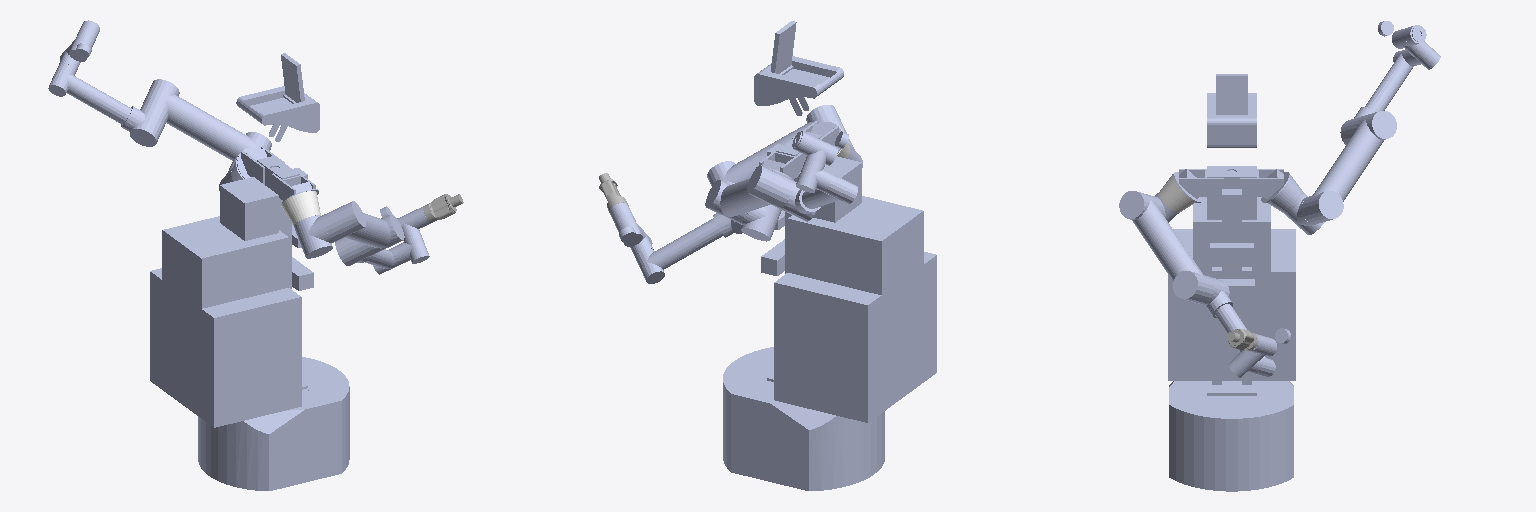
--- Render facts (derived) ---
3 views of the same robot in one strip: view 1: azimuth 30°, elevation 25°; view 2: azimuth 150°, elevation 25°; view 3: azimuth 270°, elevation 25° (orthographic).
Model Lowpoly_cholera_new_base_URDF_AVATRINA_ver13.0 with 24 links and 23 joints (14 revolute, 9 fixed), rooted at base_link, posed every joint at zero.
Links seen in each view (by area): view 1: base_link, left_upperarm_link, head_neck2_link, left_forearm_link, torso_link, right_upperarm_link, right_forearm_link, right_shoulder_link, right_base_link, right_wrist1_link, right_sucker_link; view 2: base_link, head_neck2_link, left_upperarm_link, right_forearm_link, torso_link, right_upperarm_link, left_forearm_link, left_shoulder_link, left_wrist1_link, left_wrist2_link; view 3: base_link, torso_link, left_upperarm_link, right_upperarm_link, head_neck2_link, left_forearm_link, right_forearm_link, right_base_link, left_base_link, left_wrist1_link, right_wrist1_link, right_sucker_link.
Link boxes in pixels (<box>): base_link: <box>150,177,349,490</box>; left_upperarm_link: <box>141,79,271,160</box>; head_neck2_link: <box>236,53,319,141</box>; left_forearm_link: <box>48,63,166,146</box>; torso_link: <box>237,146,318,290</box>; right_upperarm_link: <box>322,201,404,253</box>; right_forearm_link: <box>335,238,402,274</box>; right_shoulder_link: <box>294,215,335,258</box>; right_base_link: <box>281,191,320,225</box>; right_wrist1_link: <box>395,232,429,263</box>; right_sucker_link: <box>423,194,463,222</box>; base_link: <box>723,156,936,490</box>; head_neck2_link: <box>754,21,843,115</box>; left_upperarm_link: <box>705,165,793,222</box>; right_forearm_link: <box>636,213,742,283</box>; torso_link: <box>756,121,840,275</box>; right_upperarm_link: <box>707,105,846,185</box>; left_forearm_link: <box>781,174,857,221</box>; left_shoulder_link: <box>739,205,781,241</box>; left_wrist1_link: <box>796,159,832,192</box>; left_wrist2_link: <box>806,137,837,166</box>; base_link: <box>1168,166,1295,491</box>; torso_link: <box>1173,169,1289,309</box>; left_upperarm_link: <box>1302,111,1396,223</box>; right_upperarm_link: <box>1119,191,1214,303</box>; head_neck2_link: <box>1207,74,1256,147</box>; left_forearm_link: <box>1340,49,1414,144</box>; right_forearm_link: <box>1201,276,1275,376</box>; right_base_link: <box>1159,172,1195,212</box>; left_base_link: <box>1268,175,1303,213</box>; left_wrist1_link: <box>1407,41,1440,69</box>; right_wrist1_link: <box>1228,350,1261,377</box>; right_sucker_link: <box>1227,329,1257,350</box>.
Size in the robot's own frame: 1.5 by 1.28 by 1.73 metres.
Meshes: 24 distinct files referenced, 23 mesh visuals loaded (23 binary STL); not drawn: 1 (reference not matched to a file when rendering).

URDF robot description (Lowpoly_cholera_new_base_URDF_AVATRINA_ver13.0):
<?xml version="1.0" encoding="utf-8"?>
<!-- This URDF was automatically created by SolidWorks to URDF Exporter! Originally created by Stephen Brawner ([email redacted])
     Commit Version: 1.6.0-1-g15f4949  Build Version: 1.6.7594.29634
     For more information, please see http://wiki.ros.org/sw_urdf_exporter -->
<robot
  name="Lowpoly_cholera_new_base_URDF_AVATRINA_ver13.0">
  <link
    name="base_link">
    <inertial>
      <origin
        xyz="-0.130386130487535 2.42421627216771E-09 0.514289714827964"
        rpy="0 0 0" />
      <mass
        value="215.19814039698" />
      <inertia
        ixx="10.2643560828855"
        ixy="8.72995692893655E-07"
        ixz="-0.256200055876733"
        iyy="10.1406984957429"
        iyz="-8.91234563338853E-08"
        izz="7.56826571493856" />
    </inertial>
    <visual>
      <origin
        xyz="0 0 0"
        rpy="0 0 0" />
      <geometry>
        <mesh
          filename="Cholera/base_link.STL" />
      </geometry>
      <material
        name="">
        <color
          rgba="0.792156862745098 0.819607843137255 0.933333333333333 1" />
      </material>
    </visual>
    <collision>
      <origin
        xyz="0 0 0"
        rpy="0 0 0" />
      <geometry>
        <mesh
          filename="Cholera/base_link.STL" />
      </geometry>
    </collision>
  </link>
  <link
    name="torso_link">
    <inertial>
      <origin
        xyz="0.0380114900934237 1.36557432028894E-14 1.04413785242718"
        rpy="0 0 0" />
      <mass
        value="7.8578312658135" />
      <inertia
        ixx="0.0813622580761665"
        ixy="6.2036693056905E-18"
        ixz="-5.05951327433629E-05"
        iyy="0.0726665678399411"
        iyz="2.45525205227084E-18"
        izz="0.0162195379596107" />
    </inertial>
    <visual>
      <origin
        xyz="0 0 0"
        rpy="0 0 0" />
      <geometry>
        <mesh
          filename="Cholera/torso_link.STL" />
      </geometry>
      <material
        name="">
        <color
          rgba="0.792156862745098 0.819607843137255 0.933333333333333 1" />
      </material>
    </visual>
    <collision>
      <origin
        xyz="0 0 0"
        rpy="0 0 0" />
      <geometry>
        <mesh
          filename="Cholera/torso_link.STL" />
      </geometry>
    </collision>
  </link>
  <joint
    name="base_torso"
    type="fixed">
    <origin
      xyz="0 0 0.0400000000000001"
      rpy="0 0 0" />
    <parent
      link="base_link" />
    <child
      link="torso_link" />
    <axis
      xyz="0 0 0" />
  </joint>
  <link
    name="head_base_link">
    <inertial>
      <origin
        xyz="2.77555756156289E-16 -3.33066907387547E-16 0.00249999999999995"
        rpy="0 0 0" />
      <mass
        value="0.0737168146928194" />
      <inertia
        ixx="0.000266191924833222"
        ixy="-4.95251230708974E-19"
        ixz="2.16665583378074E-20"
        iyy="4.10395599934383E-05"
        iyz="7.51143400877818E-20"
        izz="0.000306924331432107" />
    </inertial>
    <visual>
      <origin
        xyz="0 0 0"
        rpy="0 0 0" />
      <geometry>
        <mesh
          filename="Cholera/head_base_link.STL" />
      </geometry>
      <material
        name="">
        <color
          rgba="0.792156862745098 0.819607843137255 0.933333333333333 1" />
      </material>
    </visual>
    <collision>
      <origin
        xyz="0 0 0"
        rpy="0 0 0" />
      <geometry>
        <mesh
          filename="Cholera/head_base_link.STL" />
      </geometry>
    </collision>
  </link>
  <joint
    name="torso_head_base"
    type="fixed">
    <origin
      xyz="0.0211080431151786 0 1.269055"
      rpy="0 0 0" />
    <parent
      link="torso_link" />
    <child
      link="head_base_link" />
    <axis
      xyz="0 0 0" />
  </joint>
  <link
    name="head_neck1_link">
    <inertial>
      <origin
        xyz="-0.017162 -3.7965E-11 0.055816"
        rpy="0 0 0" />
      <mass
        value="1.9942" />
      <inertia
        ixx="0.0063631"
        ixy="2.3331E-11"
        ixz="0.00033213"
        iyy="0.0061165"
        iyz="8.9971E-12"
        izz="0.0057481" />
    </inertial>
    <visual>
      <origin
        xyz="0 0 0"
        rpy="0 0 0" />
      <geometry>
        <mesh
          filename="Cholera/head_neck1_link.STL" />
      </geometry>
      <material
        name="">
        <color
          rgba="0.79216 0.81961 0.93333 1" />
      </material>
    </visual>
    <collision>
      <origin
        xyz="0 0 0"
        rpy="0 0 0" />
      <geometry>
        <mesh
          filename="Cholera/head_neck1_link.STL" />
      </geometry>
    </collision>
  </link>
  <joint
    name="head_base_neck1"
    type="revolute">
    <origin
      xyz="0 0 0.005"
      rpy="0 0 0" />
    <parent
      link="head_base_link" />
    <child
      link="head_neck1_link" />
    <axis
      xyz="0 0 -1" />
    <limit
      lower="-1.57"
      upper="1.57"
      effort="1"
      velocity="1" />
  </joint>
  <link
    name="head_neck2_link">
    <inertial>
      <origin
        xyz="0.11756 0.058091 5.3787E-07"
        rpy="0 0 0" />
      <mass
        value="3.6975" />
      <inertia
        ixx="0.03148"
        ixy="0.0032781"
        ixz="-1.0621E-07"
        iyy="0.0191"
        iyz="3.2192E-07"
        izz="0.022014" />
    </inertial>
    <visual>
      <origin
        xyz="0 0 0"
        rpy="0 0 0" />
      <geometry>
        <mesh
          filename="Cholera/head_neck2_link.STL" />
      </geometry>
      <material
        name="">
        <color
          rgba="0.79216 0.81961 0.93333 1" />
      </material>
    </visual>
    <collision>
      <origin
        xyz="0 0 0"
        rpy="0 0 0" />
      <geometry>
        <mesh
          filename="Cholera/head_neck2_link.STL" />
      </geometry>
    </collision>
  </link>
  <joint
    name="head_neck1_neck2"
    type="revolute">
    <origin
      xyz="-0.014108 0 0.1378"
      rpy="-1.5708 -1.5708 0" />
    <parent
      link="head_neck1_link" />
    <child
      link="head_neck2_link" />
    <axis
      xyz="0 0 1" />
    <limit
      lower="-1.57"
      upper="0.785"
      effort="1"
      velocity="1" />
  </joint>
  <link
    name="left_base_link">
    <inertial>
      <origin
        xyz="-1.37667655053519E-14 1.35447209004269E-14 0.0452500167858341"
        rpy="0 0 0" />
      <mass
        value="1.39397162412901" />
      <inertia
        ixx="0.00271550342627118"
        ixy="5.42101086242752E-20"
        ixz="-2.71050543121376E-19"
        iyy="0.00271550342627118"
        iyz="4.33680868994202E-19"
        izz="0.00319199166031868" />
    </inertial>
    <visual>
      <origin
        xyz="0 0 0"
        rpy="0 0 0" />
      <geometry>
        <mesh
          filename="Cholera/left_base_link.STL" />
      </geometry>
      <material
        name="">
        <color
          rgba="0.792156862745098 0.819607843137255 0.933333333333333 1" />
      </material>
    </visual>
    <collision>
      <origin
        xyz="0 0 0"
        rpy="0 0 0" />
      <geometry>
        <mesh
          filename="Cholera/left_base_link.STL" />
      </geometry>
    </collision>
  </link>
  <joint
    name="base_left_base"
    type="fixed">
    <origin
      xyz="0.010461531941383809 0.1765523419379713 1.2480977947660172"
      rpy="2.525718289099135 0.5145185869598203 3.7578603155950945" />
    <parent
      link="base_link" />
    <child
      link="left_base_link" />
    <axis
      xyz="0 0 0" />
  </joint>
  <link
    name="left_shoulder_link">
    <inertial>
      <origin
        xyz="1.14297332709512E-07 0.00937261893289865 0.0670267729066092"
        rpy="0 0 0" />
      <mass
        value="1.69867696887764" />
      <inertia
        ixx="0.00442864599419339"
        ixy="-4.1010435661553E-09"
        ixz="2.87401706491712E-10"
        iyy="0.00390531713147106"
        iyz="5.69611570013177E-05"
        izz="0.0035600426008386" />
    </inertial>
    <visual>
      <origin
        xyz="0 0 0"
        rpy="0 0 0" />
      <geometry>
        <mesh
          filename="Cholera/left_shoulder_link.STL" />
      </geometry>
      <material
        name="">
        <color
          rgba="0.792156862745098 0.819607843137255 0.933333333333333 1" />
      </material>
    </visual>
    <collision>
      <origin
        xyz="0 0 0"
        rpy="0 0 0" />
      <geometry>
        <mesh
          filename="Cholera/left_shoulder_link.STL" />
      </geometry>
    </collision>
  </link>
  <joint
    name="left_base_shoulder"
    type="revolute">
    <origin
      xyz="0 0 0.0990600000000003"
      rpy="0 0 1.5707963267949" />
    <parent
      link="left_base_link" />
    <child
      link="left_shoulder_link" />
    <axis
      xyz="0 0 1" />
    <limit
      lower="-6.28"
      upper="6.28"
      effort="150"
      velocity="3.33" />
  </joint>
  <link
    name="left_upperarm_link">
    <inertial>
      <origin
        xyz="1.35809636203632E-07 0.212500030104988 0.0653493983179887"
        rpy="0 0 0" />
      <mass
        value="6.31285273346305" />
      <inertia
        ixx="0.16990036349023"
        ixy="8.61179150300068E-09"
        ixz="3.01509572201569E-07"
        iyy="0.0127291856529223"
        iyz="-4.74484090256036E-10"
        izz="0.168139675767776" />
    </inertial>
    <visual>
      <origin
        xyz="0 0 0"
        rpy="0 0 0" />
      <geometry>
        <mesh
          filename="Cholera/left_upperarm_link.STL" />
      </geometry>
      <material
        name="">
        <color
          rgba="0.792156862745098 0.819607843137255 0.933333333333333 1" />
      </material>
    </visual>
    <collision>
      <origin
        xyz="0 0 0"
        rpy="0 0 0" />
      <geometry>
        <mesh
          filename="Cholera/left_upperarm_link.STL" />
      </geometry>
    </collision>
  </link>
  <joint
    name="left_shoulder_upperarm"
    type="revolute">
    <origin
      xyz="0 0.0744000000000002 0.0634490000000002"
      rpy="-1.5707963267949 -1.5707963267949 0" />
    <parent
      link="left_shoulder_link" />
    <child
      link="left_upperarm_link" />
    <axis
      xyz="0 0 1" />
    <limit
      lower="-6.28"
      upper="6.28"
      effort="150"
      velocity="3.33" />
  </joint>
  <link
    name="left_forearm_link">
    <inertial>
      <origin
        xyz="-7.44991930368144E-08 0.150537145068123 0.0641679811020519"
        rpy="0 0 0" />
      <mass
        value="3.18874318974123" />
      <inertia
        ixx="0.0756021338545847"
        ixy="-1.64883032522517E-08"
        ixz="6.14346233607233E-10"
        iyy="0.00433469541115748"
        iyz="-0.00195295037223337"
        izz="0.0749130409918155" />
    </inertial>
    <visual>
      <origin
        xyz="0 0 0"
        rpy="0 0 0" />
      <geometry>
        <mesh
          filename="Cholera/left_forearm_link.STL" />
      </geometry>
      <material
        name="">
        <color
          rgba="0.792156862745098 0.819607843137255 0.933333333333333 1" />
      </material>
    </visual>
    <collision>
      <origin
        xyz="0 0 0"
        rpy="0 0 0" />
      <geometry>
        <mesh
          filename="Cholera/left_forearm_link.STL" />
      </geometry>
    </collision>
  </link>
  <joint
    name="left_upperarm_forearm"
    type="revolute">
    <origin
      xyz="0 0.425 0"
      rpy="3.14159265358979 0 3.14159265358979" />
    <parent
      link="left_upperarm_link" />
    <child
      link="left_forearm_link" />
    <axis
      xyz="0 0 -1" />
    <limit
      lower="-6.28"
      upper="6.28"
      effort="28"
      velocity="3.33" />
  </joint>
  <link
    name="left_wrist1_link">
    <inertial>
      <origin
        xyz="-6.79008282933324E-08 -0.00349488600556491 0.0580237753953088"
        rpy="0 0 0" />
      <mass
        value="0.63356209986502" />
      <inertia
        ixx="0.000995073092670702"
        ixy="1.98275427299539E-10"
        ixz="-3.8640843084655E-10"
        iyy="0.000769001925832068"
        iyz="3.28288005460469E-05"
        izz="0.000691326411605404" />
    </inertial>
    <visual>
      <origin
        xyz="0 0 0"
        rpy="0 0 0" />
      <geometry>
        <mesh
          filename="Cholera/left_wrist1_link.STL" />
      </geometry>
      <material
        name="">
        <color
          rgba="0.792156862745098 0.819607843137255 0.933333333333333 1" />
      </material>
    </visual>
    <collision>
      <origin
        xyz="0 0 0"
        rpy="0 0 0" />
      <geometry>
        <mesh
          filename="Cholera/left_wrist1_link.STL" />
      </geometry>
    </collision>
  </link>
  <joint
    name="left_forearm_wrist1"
    type="revolute">
    <origin
      xyz="0 0.39225 0.0139500000000001"
      rpy="-3.14159265358979 0 1.5707963267949" />
    <parent
      link="left_forearm_link" />
    <child
      link="left_wrist1_link" />
    <axis
      xyz="0 0 1" />
    <limit
      lower="-6.28"
      upper="6.28"
      effort="28"
      velocity="3.33" />
  </joint>
  <link
    name="left_wrist2_link">
    <inertial>
      <origin
        xyz="1.12157343412633E-08 -0.00401808934817849 0.0461487186768793"
        rpy="0 0 0" />
      <mass
        value="0.547369084917851" />
      <inertia
        ixx="0.000728213840607297"
        ixy="-4.19945240555516E-11"
        ixz="8.88611992284427E-11"
        iyy="0.000503983489914328"
        iyz="1.59481903299775E-05"
        izz="0.000628884098642882" />
    </inertial>
    <visual>
      <origin
        xyz="0 0 0"
        rpy="0 0 0" />
      <geometry>
        <mesh
          filename="Cholera/left_wrist2_link.STL" />
      </geometry>
      <material
        name="">
        <color
          rgba="0.792156862745098 0.819607843137255 0.933333333333333 1" />
      </material>
    </visual>
    <collision>
      <origin
        xyz="0 0 0"
        rpy="0 0 0" />
      <geometry>
        <mesh
          filename="Cholera/left_wrist2_link.STL" />
      </geometry>
    </collision>
  </link>
  <joint
    name="left_wrist1_wrist2"
    type="revolute">
    <origin
      xyz="0 0.0462999999999994 0.0728499999999996"
      rpy="1.5707963267949 0 3.14159265358979" />
    <parent
      link="left_wrist1_link" />
    <child
      link="left_wrist2_link" />
    <axis
      xyz="0 0 1" />
    <limit
      lower="-6.28"
      upper="6.28"
      effort="28"
      velocity="3.33" />
  </joint>
  <link
    name="left_EE_link">
    <inertial>
      <origin
        xyz="1.37667655053519E-14 0 0.0254445195252795"
        rpy="0 0 0" />
      <mass
        value="0.224027022443648" />
      <inertia
        ixx="0.00012658229794006"
        ixy="-2.37169225231204E-20"
        ixz="2.03287907341032E-20"
        iyy="0.00012658229794006"
        iyz="4.06575814682064E-20"
        izz="0.000155143101918596" />
    </inertial>
    <visual>
      <origin
        xyz="0 0 0"
        rpy="0 0 0" />
      <geometry>
        <mesh
          filename="Cholera/left_EE_link.STL" />
      </geometry>
      <material
        name="">
        <color
          rgba="0.792156862745098 0.819607843137255 0.933333333333333 1" />
      </material>
    </visual>
    <collision>
      <origin
        xyz="0 0 0"
        rpy="0 0 0" />
      <geometry>
        <mesh
          filename="Cholera/left_EE_link.STL" />
      </geometry>
    </collision>
  </link>
  <joint
    name="left_wrist2_EE"
    type="revolute">
    <origin
      xyz="0 0.0463000000000005 0.0534000000000002"
      rpy="1.5707963267949 0 3.14159265358979" />
    <parent
      link="left_wrist2_link" />
    <child
      link="left_EE_link" />
    <axis
      xyz="0 0 1" />
    <limit
      lower="-6.28"
      upper="6.28"
      effort="28"
      velocity="3.33" />
  </joint>
  <link
    name="left_tool_link">
    <inertial>
      <origin
        xyz="-0.000499999999985734 -1.35447209004269E-14 -1.11022302462516E-16"
        rpy="0 0 0" />
      <mass
        value="2.49999999999995E-05" />
      <inertia
        ixx="1.04166666666664E-10"
        ixy="2.26182198744969E-26"
        ixz="1.51865190585907E-25"
        iyy="5.41666666666635E-11"
        iyz="-8.86957336507055E-25"
        izz="5.41666666666667E-11" />
    </inertial>
    <visual>
      <origin
        xyz="0 0 0"
        rpy="0 0 0" />
      <geometry>
        <mesh
          filename="Cholera/left_tool_link.STL" />
      </geometry>
      <material
        name="">
        <color
          rgba="0.792156862745098 0.819607843137255 0.933333333333333 1" />
      </material>
    </visual>
    <collision>
      <origin
        xyz="0 0 0"
        rpy="0 0 0" />
      <geometry>
        <mesh
          filename="Cholera/left_tool_link.STL" />
      </geometry>
    </collision>
  </link>
  <joint
    name="left_EE_tool"
    type="fixed">
    <origin
      xyz="0 0 0.0532999999999995"
      rpy="1.5707963267949 -1.5707963267949 0" />
    <parent
      link="left_EE_link" />
    <child
      link="left_tool_link" />
    <axis
      xyz="0 0 0" />
  </joint>
  <link
    name="left_wrist2_camera_link">
    <inertial>
      <origin
        xyz="-8.34072810818043E-11 0.0577106733608101 -0.00741056156456921"
        rpy="0 0 0" />
      <mass
        value="0.104007488371374" />
      <inertia
        ixx="3.62127199796485E-05"
        ixy="2.75417065727108E-14"
        ixz="-5.14030583777334E-14"
        iyy="2.73887262006016E-05"
        iyz="9.69787629165981E-07"
        izz="5.46610717399857E-05" />
    </inertial>
    <visual>
      <origin
        xyz="0 0 0"
        rpy="0 0 0" />
      <geometry>
        <mesh
          filename="Cholera/left_wrist2_camera_link.STL" />
      </geometry>
      <material
        name="">
        <color
          rgba="0.792156862745098 0.819607843137255 0.933333333333333 1" />
      </material>
    </visual>
    <collision>
      <origin
        xyz="0 0 0"
        rpy="0 0 0" />
      <geometry>
        <mesh
          filename="Cholera/left_wrist2_camera_link.STL" />
      </geometry>
    </collision>
  </link>
  <joint
    name="left_wrist2_camera"
    type="fixed">
    <origin
      xyz="0 -0.0583299999999995 0.0533999999999947"
      rpy="1.5707963267949 0 3.14159265358979" />
    <parent
      link="left_wrist2_link" />
    <child
      link="left_wrist2_camera_link" />
    <axis
      xyz="0 0 0" />
  </joint>
  <link
    name="right_base_link">
    <inertial>
      <origin
        xyz="0 0 0"
        rpy="0 0 0" />
      <mass
        value="0" />
      <inertia
        ixx="0"
        ixy="0"
        ixz="0"
        iyy="0"
        iyz="0"
        izz="0" />
    </inertial>
    <visual>
      <origin
        xyz="0 0 0"
        rpy="0 0 0" />
      <geometry>
        <mesh
          filename="Cholera/right_base_link.STL" />
      </geometry>
      <material
        name="">
        <color
          rgba="1 1 1 1" />
      </material>
    </visual>
    <collision>
      <origin
        xyz="0 0 0"
        rpy="0 0 0" />
      <geometry>
        <mesh
          filename="Cholera/right_base_link.STL" />
      </geometry>
    </collision>
  </link>
  <joint
    name="base_right_base"
    type="fixed">
    <origin
      xyz="0.010512006603566913 -0.1799677644898198 1.2496690507099943"
      rpy="3.7546411255457173 0.5141174252613643 2.5256958342104996" />
    <parent
      link="base_link" />
    <child
      link="right_base_link" />
    <axis
      xyz="0 0 0" />
  </joint>
  <link
    name="right_shoulder_link">
    <inertial>
      <origin
        xyz="1.51306617724722E-05 0.00937262932033189 0.0670267917081215"
        rpy="0 0 0" />
      <mass
        value="1.69867711391749" />
      <inertia
        ixx="0.00442865037959082"
        ixy="1.79699203132783E-08"
        ixz="-1.97665668981916E-07"
        iyy="0.00390531752644237"
        iyz="5.695954757768E-05"
        izz="0.00356004026239241" />
    </inertial>
    <visual>
      <origin
        xyz="0 0 0"
        rpy="0 0 0" />
      <geometry>
        <mesh
          filename="Cholera/right_shoulder_link.STL" />
      </geometry>
      <material
        name="">
        <color
          rgba="0.792156862745098 0.819607843137255 0.933333333333333 1" />
      </material>
    </visual>
    <collision>
      <origin
        xyz="0 0 0"
        rpy="0 0 0" />
      <geometry>
        <mesh
          filename="Cholera/right_shoulder_link.STL" />
      </geometry>
    </collision>
  </link>
  <joint
    name="right_base_shoulder"
    type="revolute">
    <origin
      xyz="0 0 0.0990600000000001"
      rpy="0 -0.000227291627930162 1.5707963267949" />
    <parent
      link="right_base_link" />
    <child
      link="right_shoulder_link" />
    <axis
      xyz="0 0 1" />
    <limit
      lower="-6.28"
      upper="6.28"
      effort="150"
      velocity="3.33" />
  </joint>
  <link
    name="right_upperarm_link">
    <inertial>
      <origin
        xyz="-1.35809655743557E-07 0.212499969895026 0.065349398317975"
        rpy="0 0 0" />
      <mass
        value="6.31285273346304" />
      <inertia
        ixx="0.16990036349023"
        ixy="8.61179151861319E-09"
        ixz="-3.015095721981E-07"
        iyy="0.0127291856529223"
        iyz="4.74484099797015E-10"
        izz="0.168139675767776" />
    </inertial>
    <visual>
      <origin
        xyz="0 0 0"
        rpy="0 0 0" />
      <geometry>
        <mesh
          filename="Cholera/right_upperarm_link.STL" />
      </geometry>
      <material
        name="">
        <color
          rgba="0.792156862745098 0.819607843137255 0.933333333333333 1" />
      </material>
    </visual>
    <collision>
      <origin
        xyz="0 0 0"
        rpy="0 0 0" />
      <geometry>
        <mesh
          filename="Cholera/right_upperarm_link.STL" />
      </geometry>
    </collision>
  </link>
  <joint
    name="right_shoulder_upperarm"
    type="revolute">
    <origin
      xyz="1.44214263774201E-05 0.0743999999999996 0.0634489983610651"
      rpy="-1.5707963267927 -1.57056903516778 0" />
    <parent
      link="right_shoulder_link" />
    <child
      link="right_upperarm_link" />
    <axis
      xyz="0 0 1" />
    <limit
      lower="-6.28"
      upper="6.28"
      effort="150"
      velocity="28" />
  </joint>
  <link
    name="right_forearm_link">
    <inertial>
      <origin
        xyz="-6.88233805501426E-08 0.150537145210714 0.0641679259977747"
        rpy="0 0 0" />
      <mass
        value="3.18874323055421" />
      <inertia
        ixx="0.0756018393308706"
        ixy="-9.23950092020904E-08"
        ixz="-2.65068297675836E-08"
        iyy="0.00433460742981963"
        iyz="-0.0019529557313547"
        izz="0.0749126070237331" />
    </inertial>
    <visual>
      <origin
        xyz="0 0 0"
        rpy="0 0 0" />
      <geometry>
        <mesh
          filename="Cholera/right_forearm_link.STL" />
      </geometry>
      <material
        name="">
        <color
          rgba="0.792156862745098 0.819607843137255 0.933333333333333 1" />
      </material>
    </visual>
    <collision>
      <origin
        xyz="0 0 0"
        rpy="0 0 0" />
      <geometry>
        <mesh
          filename="Cholera/right_forearm_link.STL" />
      </geometry>
    </collision>
  </link>
  <joint
    name="right_upperarm_forearm"
    type="revolute">
    <origin
      xyz="0 0.425 0"
      rpy="3.14159265358979 0 -3.14159265358979" />
    <parent
      link="right_upperarm_link" />
    <child
      link="right_forearm_link" />
    <axis
      xyz="0 0 -1" />
    <limit
      lower="-6.28"
      upper="6.28"
      effort="28"
      velocity="3.33" />
  </joint>
  <link
    name="right_wrist1_link">
    <inertial>
      <origin
        xyz="6.90914477852189E-08 -0.00349490925938423 0.0580237760681647"
        rpy="0 0 0" />
      <mass
        value="0.633562086796879" />
      <inertia
        ixx="0.000995072942241236"
        ixy="-1.48590563573033E-10"
        ixz="4.3637358157001E-10"
        iyy="0.000769001946471979"
        iyz="3.28284789390375E-05"
        izz="0.000691326353425231" />
    </inertial>
    <visual>
      <origin
        xyz="0 0 0"
        rpy="0 0 0" />
      <geometry>
        <mesh
          filename="Cholera/right_wrist1_link.STL" />
      </geometry>
      <material
        name="">
        <color
          rgba="0.792156862745098 0.819607843137255 0.933333333333333 1" />
      </material>
    </visual>
    <collision>
      <origin
        xyz="0 0 0"
        rpy="0 0 0" />
      <geometry>
        <mesh
          filename="Cholera/right_wrist1_link.STL" />
      </geometry>
    </collision>
  </link>
  <joint
    name="right_forearm_wrist1"
    type="revolute">
    <origin
      xyz="0 0.39225 0.0139499999999998"
      rpy="3.14159265358979 0 1.57079632679491" />
    <parent
      link="right_forearm_link" />
    <child
      link="right_wrist1_link" />
    <axis
      xyz="0 0 1" />
    <limit
      lower="-6.28"
      upper="6.28"
      effort="28"
      velocity="3.33" />
  </joint>
  <link
    name="right_wrist2_link">
    <inertial>
      <origin
        xyz="-8.35234259533024E-09 -0.00401808937073189 0.0461487186816244"
        rpy="0 0 0" />
      <mass
        value="0.547369083405585" />
      <inertia
        ixx="0.000728213843703613"
        ixy="-2.77103583541617E-12"
        ixz="-4.36601658689376E-11"
        iyy="0.000503983489439202"
        iyz="1.59481907904133E-05"
        izz="0.00062888409306512" />
    </inertial>
    <visual>
      <origin
        xyz="0 0 0"
        rpy="0 0 0" />
      <geometry>
        <mesh
          filename="Cholera/right_wrist2_link.STL" />
      </geometry>
      <material
        name="">
        <color
          rgba="0.792156862745098 0.819607843137255 0.933333333333333 1" />
      </material>
    </visual>
    <collision>
      <origin
        xyz="0 0 0"
        rpy="0 0 0" />
      <geometry>
        <mesh
          filename="Cholera/right_wrist2_link.STL" />
      </geometry>
    </collision>
  </link>
  <joint
    name="right_wrist1_wrist2"
    type="revolute">
    <origin
      xyz="0 0.0463000000000003 0.0728500000000001"
      rpy="1.5707963267949 0 3.14159265358979" />
    <parent
      link="right_wrist1_link" />
    <child
      link="right_wrist2_link" />
    <axis
      xyz="0 0 1" />
    <limit
      lower="-6.28"
      upper="6.28"
      effort="28"
      velocity="3.33" />
  </joint>
  <link
    name="right_EE_link">
    <inertial>
      <origin
        xyz="1.11022302462516E-16 1.93178806284777E-14 0.0254445195252656"
        rpy="0 0 0" />
      <mass
        value="0.224027022443648" />
      <inertia
        ixx="0.00012658229794006"
        ixy="-1.01643953670516E-20"
        ixz="-1.01643953670516E-20"
        iyy="0.00012658229794006"
        iyz="-3.04931861011548E-20"
        izz="0.000155143101918596" />
    </inertial>
    <visual>
      <origin
        xyz="0 0 0"
        rpy="0 0 0" />
      <geometry>
        <mesh
          filename="Cholera/right_EE_link.STL" />
      </geometry>
      <material
        name="">
        <color
          rgba="0.792156862745098 0.819607843137255 0.933333333333333 1" />
      </material>
    </visual>
    <collision>
      <origin
        xyz="0 0 0"
        rpy="0 0 0" />
      <geometry>
        <mesh
          filename="Cholera/right_EE_link.STL" />
      </geometry>
    </collision>
  </link>
  <joint
    name="right_wrist2_EE"
    type="revolute">
    <origin
      xyz="0 0.0462999999999996 0.0534"
      rpy="1.5707963267949 0.000227291627932216 3.14159265358979" />
    <parent
      link="right_wrist2_link" />
    <child
      link="right_EE_link" />
    <axis
      xyz="0 0 1" />
    <limit
      lower="-6.28"
      upper="6.28"
      effort="28"
      velocity="3.33" />
  </joint>
  <link
    name="right_tool_link">
    <inertial>
      <origin
        xyz="-0.000500000000000167 2.22044604925031E-16 -1.95399252334028E-14"
        rpy="0 0 0" />
      <mass
        value="2.49999999999996E-05" />
      <inertia
        ixx="1.04166666666667E-10"
        ixy="-8.07793566946316E-26"
        ixz="1.27631383577518E-25"
        iyy="5.41666666666658E-11"
        iyz="1.37486465094263E-24"
        izz="5.4166666666667E-11" />
    </inertial>
    <visual>
      <origin
        xyz="0 0 0"
        rpy="0 0 0" />
      <geometry>
        <mesh
          filename="Cholera/right_tool_link.STL" />
      </geometry>
      <material
        name="">
        <color
          rgba="0.792156862745098 0.819607843137255 0.933333333333333 1" />
      </material>
    </visual>
    <collision>
      <origin
        xyz="0 0 0"
        rpy="0 0 0" />
      <geometry>
        <mesh
          filename="Cholera/right_tool_link.STL" />
      </geometry>
    </collision>
  </link>
  <joint
    name="right_EE_tool"
    type="fixed">
    <origin
      xyz="0 0 0.0533000000000001"
      rpy="1.57056903516696 -1.5707963267949 0" />
    <parent
      link="right_EE_link" />
    <child
      link="right_tool_link" />
    <axis
      xyz="0 0 0" />
  </joint>
  <link
    name="right_sucker_link">
    <inertial>
      <origin
        xyz="7.40765482450945E-05 5.32275407660876E-06 0.0586623958389181"
        rpy="0 0 0" />
      <mass
        value="0.455937790675365" />
      <inertia
        ixx="0.000765771744246054"
        ixy="2.91583140806992E-09"
        ixz="2.40901442618506E-07"
        iyy="0.00066416868364583"
        iyz="2.81352525356189E-09"
        izz="0.000291802729043668" />
    </inertial>
    <visual>
      <origin
        xyz="0 0 0"
        rpy="0 0 0" />
      <geometry>
        <mesh
          filename="Cholera/right_sucker_link.STL" />
      </geometry>
      <material
        name="">
        <color
          rgba="0.752941176470588 0.752941176470588 0.752941176470588 1" />
      </material>
    </visual>
    <collision>
      <origin
        xyz="0 0 0"
        rpy="0 0 0" />
      <geometry>
        <mesh
          filename="Cholera/right_sucker_link.STL" />
      </geometry>
    </collision>
  </link>
  <joint
    name="right_tool_sucker"
    type="fixed">
    <origin
      xyz="0 0 0"
      rpy="1.5707963267949 0 1.5707963267949" />
    <parent
      link="right_tool_link" />
    <child
      link="right_sucker_link" />
    <axis
      xyz="0 0 0" />
  </joint>
  <link
    name="right_wrist2_camera_link">
    <inertial>
      <origin
        xyz="8.34188274012604E-11 0.057710673360825 0.00741056156458231"
        rpy="0 0 0" />
      <mass
        value="0.104007488371374" />
      <inertia
        ixx="3.62127199796483E-05"
        ixy="-2.75416964083154E-14"
        ixz="-5.14030448252063E-14"
        iyy="2.73887262006014E-05"
        iyz="-9.69787629165987E-07"
        izz="5.46610717399854E-05" />
    </inertial>
    <visual>
      <origin
        xyz="0 0 0"
        rpy="0 0 0" />
      <geometry>
        <mesh
          filename="Cholera/right_wrist2_camera_link.STL" />
      </geometry>
      <material
        name="">
        <color
          rgba="0.792156862745098 0.819607843137255 0.933333333333333 1" />
      </material>
    </visual>
    <collision>
      <origin
        xyz="0 0 0"
        rpy="0 0 0" />
      <geometry>
        <mesh
          filename="Cholera/right_wrist2_camera_link.STL" />
      </geometry>
    </collision>
  </link>
  <joint
    name="right_wrist2_camera"
    type="fixed">
    <origin
      xyz="0 -0.0583300000000004 0.0533999999999997"
      rpy="1.5707963267949 0 0" />
    <parent
      link="right_wrist2_link" />
    <child
      link="right_wrist2_camera_link" />
    <axis
      xyz="0 0 0" />
  </joint>
  <klampt>
    <!-- left gripper Robotiq140 -->
    <mount link = 'left_tool_link' file = "robotiq_140.rob" transform = "0 0 1 0 1 0 -1 0 0  0 0 0" prefix="left_gripper"/>
    <noselfcollision group1="left_gripper:base_link left_gripper:right_inner_knuckle left_gripper:right_outer_knuckle left_gripper:right_outer_finger left_gripper:right_inner_finger  left_gripper:right_inner_finger_pad left_gripper:left_inner_knuckle left_gripper:left_outer_knuckle  left_gripper:left_outer_finger  left_gripper:left_inner_finger  left_gripper:left_inner_finger_pad" group2="left_EE_link left_tool_link left_wrist2_link left_wrist1_link"/>
    <!-- right gripper Robotiq ePick -->
    <noselfcollision group1="right_sucker_link" group2="right_EE_link right_tool_link right_wrist2_link right_wrist1_link"/>
    <noselfcollision group1="torso_link" group2="left_base_link right_base_link"/>
    <noselfcollision group1="left_base_link" group2="right_base_link right_shoulder_link right_upperarm_link"/>
    <noselfcollision group1="left_base_link" group2="left_upperarm_link"/>
    <noselfcollision group1="left_shoulder_link" group2="right_shoulder_link"/>
    <noselfcollision group1="left_wrist2_link" group2="left_forearm_link left_tool_link"/>
    <noselfcollision pairs="left_EE_link left_wrist1_link"/>
    <noselfcollision group1="right_base_link" group2="left_shoulder_link left_upperarm_link"/>
    <noselfcollision group1="right_base_link" group2="right_upperarm_link"/>
    <noselfcollision group1="right_wrist2_link" group2="right_forearm_link left_tool_link"/>
    <noselfcollision pairs="right_EE_link right_wrist1_link"/>
    <noselfcollision pairs="left_tool_link right_tool_link"/>
    <noselfcollision group1="left_tool_link right_tool_link" group2="base_link left_base_link left_shoulder_link left_upperarm_link left_forearm_link left_wrist1_link left_wrist2_link left_EE_link right_base_link right_shoulder_link right_upperarm_link right_forearm_link right_wrist1_link right_wrist2_link right_EE_link"/>

    <noselfcollision group1="base_link" group2="head_base_link head_neck1_link head_neck2_link"/>
    <noselfcollision group1="base_link" group2="left_shoulder_link right_shoulder_link"/>
    <noselfcollision group1="head_base_link" group2="head_neck2_link"/>
    <!-- <noselfcollision group1="head_neck1_link" group2="head_face_link"/> -->
    <sensors>
        <CameraSensor name="realsense_overhead_5_l515" link="left_wrist2_link"
        Tsensor="0.9997864319857709 -0.0201111306309159 -0.0047573986492837565 0.0048949440577391815 0.006795582674075577 0.9999649291744145 -0.020078096021126472 -0.9997746558504402 0.006892574214354562 0.0037220311923585234 -0.056645973112591744 0.14671806292615752"
        xres="1280" yres="720" xfov="1.19901" yfov="0.7347727" zmin="0.01"
        zmax ="1.5" zresolution="0.01" zvarianceLinear="0.00001"/>

        <CameraSensor name="realsense_overhead_4_l515" link="right_wrist2_link"
        Tsensor="0.9998931445526114 -0.007518962117395853 -0.01253653402531087 0.012615369442428227 0.01053073775651491 0.9998649688913672 -0.007385927871409198 -0.9999162808810449 0.010624466974755175 0.0015085317684312054 -0.05205054693141718 0.14777557494542187"
        xres="1280" yres="720" xfov="1.19901" yfov="0.7347727"
        zmin="0.01" zmax ="1.5" zresolution="0.01" zvarianceLinear="0.00001"/>

        <CameraSensor name="realsense_slam_l515" link="base_link"
        Tsensor="0.008535120819753494 -0.001049916270607354 0.9999630240105964 -0.9997338576643883 0.021424624312872398 0.008555659678403327 -0.021432814842493042 -0.9997699151049089 -0.0008667750864108648 0.09357422565716068 -0.0012717915732546566 1.1642385353448976"
        xres="1280" yres="720" xfov="1.196155" yfov="0.7315540"
        zmin="0.01" zmax ="1.5" zresolution="0.01" zvarianceLinear="0.00001"/>

        <CameraSensor name="zed_slam_left" link="base_link"
        Tsensor="0.006447890696940961 -0.059488606071236794 0.9982081598811248
                -0.9988406134813741 -0.048005552835298726 0.0035910662941980864
                0.04770590703164829 -0.9970740056007268 -0.05972917034087444
                0.07982846612525446 0.06223457108480517 0.9930913648574041"
        xres="672" yres="376" xfov="1.20428" yfov="0.942478"
        zmin="0.1" zmax ="1.5" zresolution="0.01" zvarianceLinear="0.00001"/>

        <CameraSensor name="zed_slam_right" link="base_link"
        Tsensor="0.006447890696940961 -0.059488606071236794 0.9982081598811248
            -0.9988406134813741 -0.048005552835298726 0.0035910662941980864
            0.04770590703164829 -0.9970740056007268 -0.05972917034087444
            0.08060221300888737 -0.057626302532959715 0.998816073701202"
        xres="672" yres="376" xfov="1.20428" yfov="0.942478"
        zmin="0.1" zmax ="1.5" zresolution="0.01" zvarianceLinear="0.00001"/>

        <LaserRangeSensor name="lidar" link="base_link"
        Tsensor="0 0 1  1 0 0  0 1 0  0.2 0 0.2"  depthMaximum="25.0"
        depthMinimum="0.1" depthResolution="0.01" depthVarianceLinear="0.0001"
        xSweepMagnitude="1.91986" measurementCount="660" />

    </sensors>
  </klampt>
</robot>
